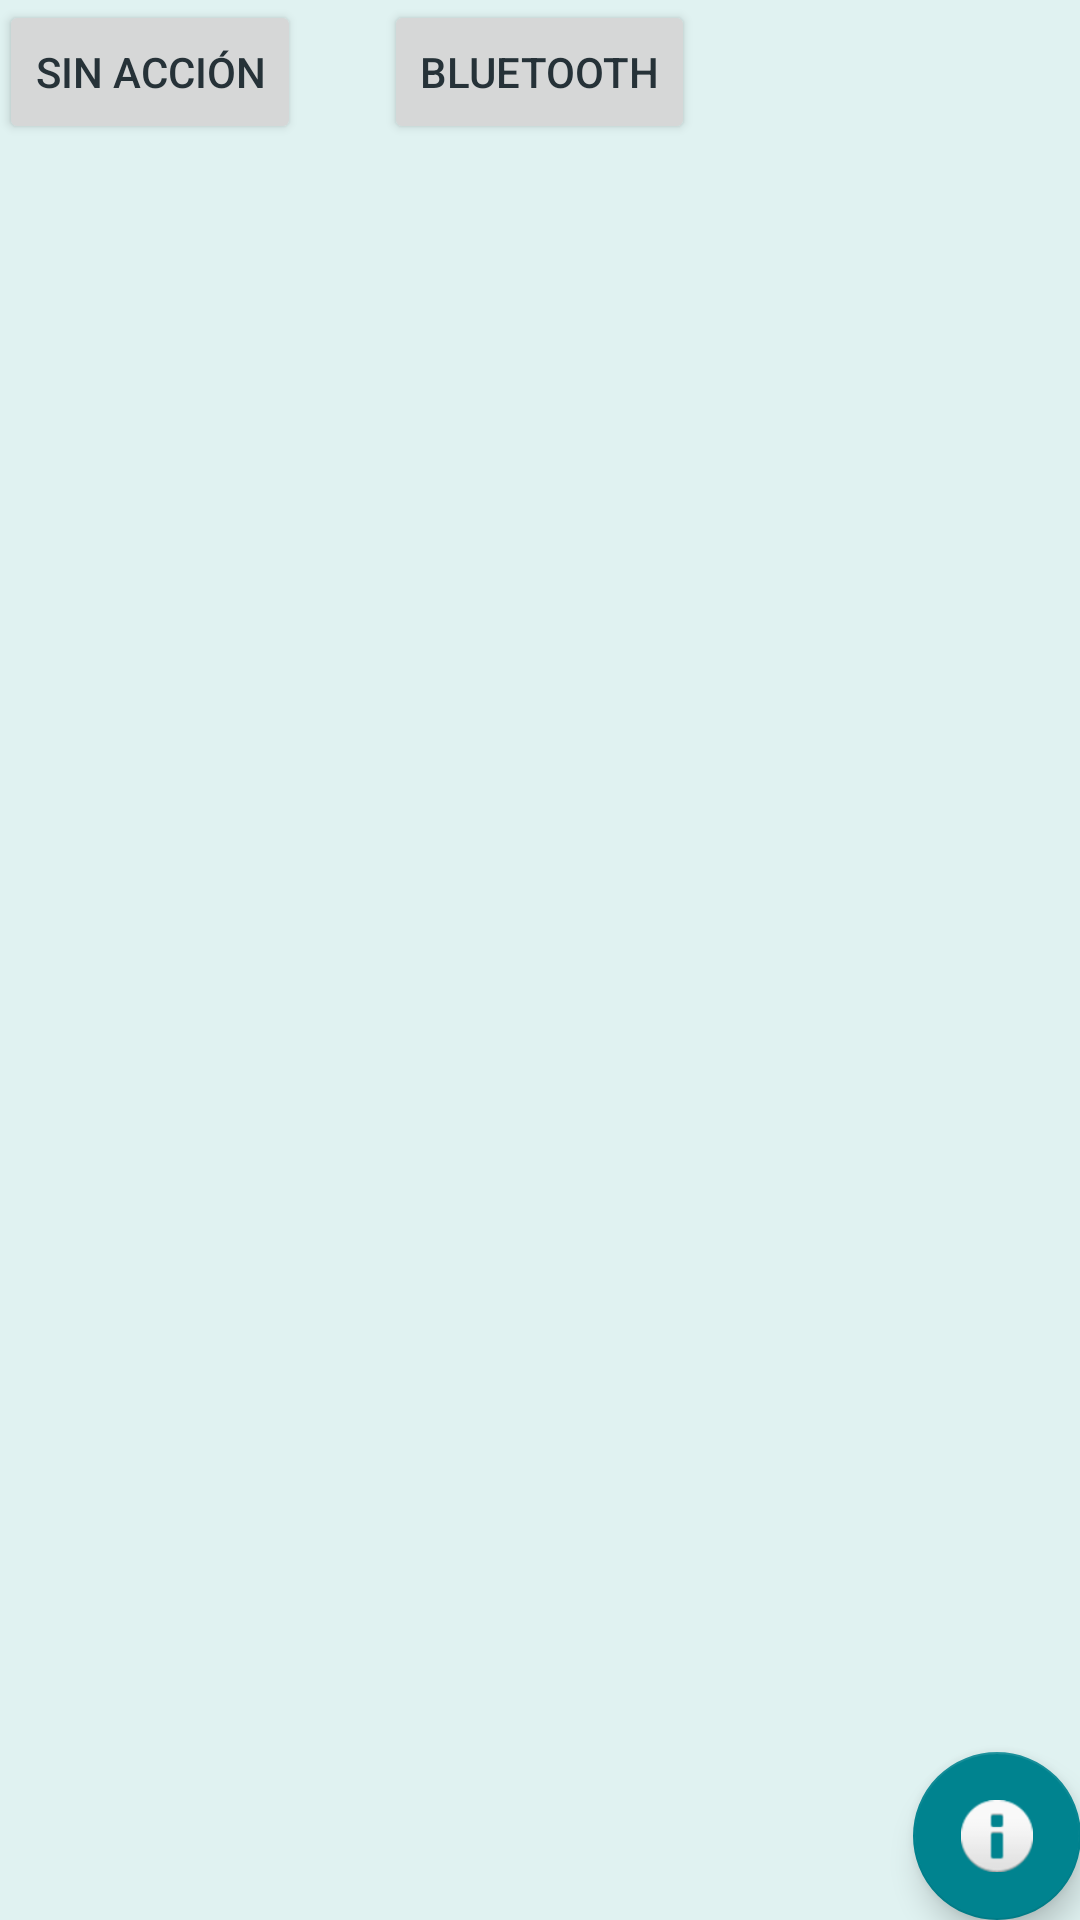

Icons on this 1080×1920 Android screen, each with its box as (x1, y1, x2, y2):
info: (913, 1752, 1080, 1920)
